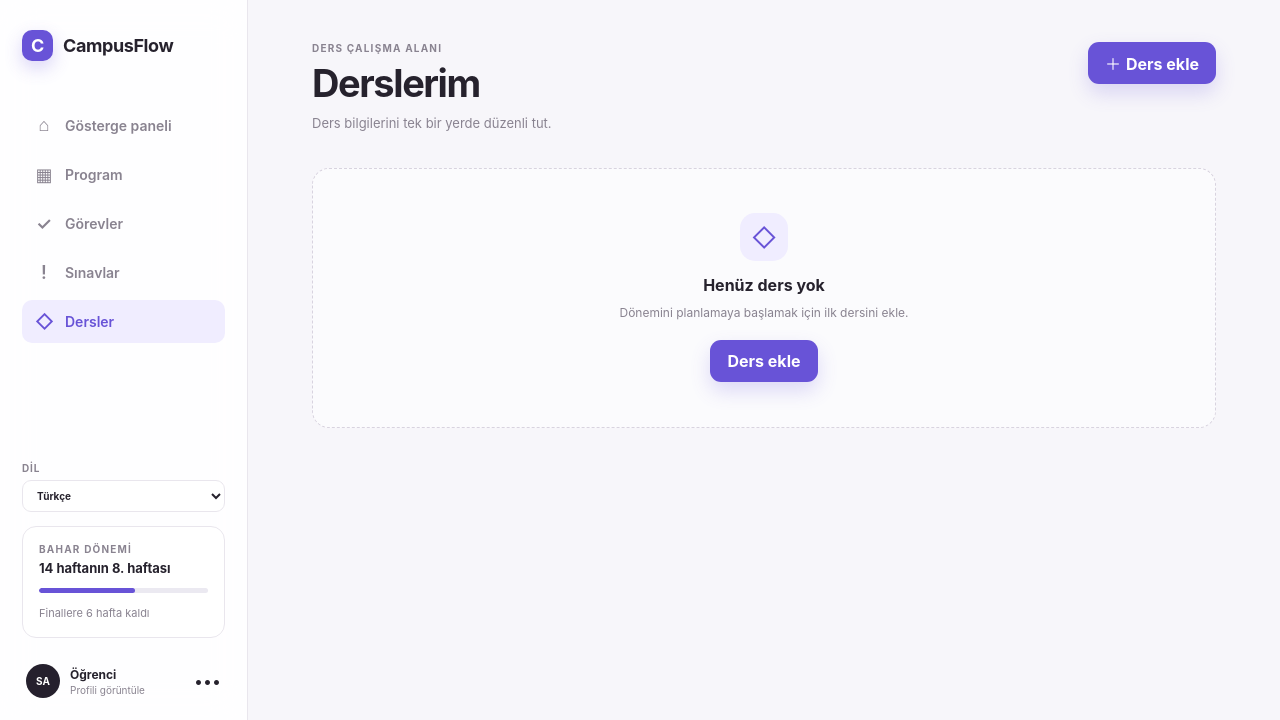
it: CampusFlow web application › creates a course from the empty state
expect the text "Henüz ders yok" is shown: met, box [703,275,825,295]
Click the button "Ders ekle" at (764, 361), box [710,340,818,382]
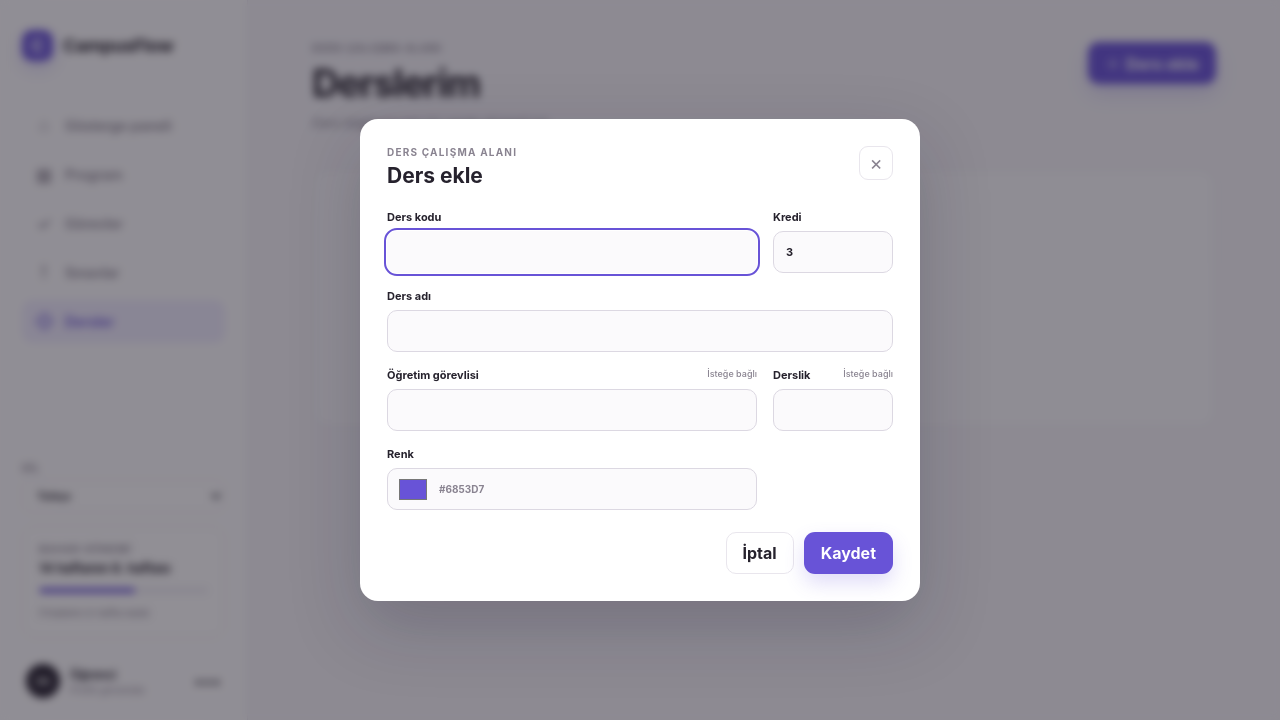
Type "math 204" into the field labelled "Ders kodu" at (572, 252), box [387,231,757,273]
Type "Linear Algebra" into the field labelled "Ders adı" at (640, 331), box [387,310,893,352]
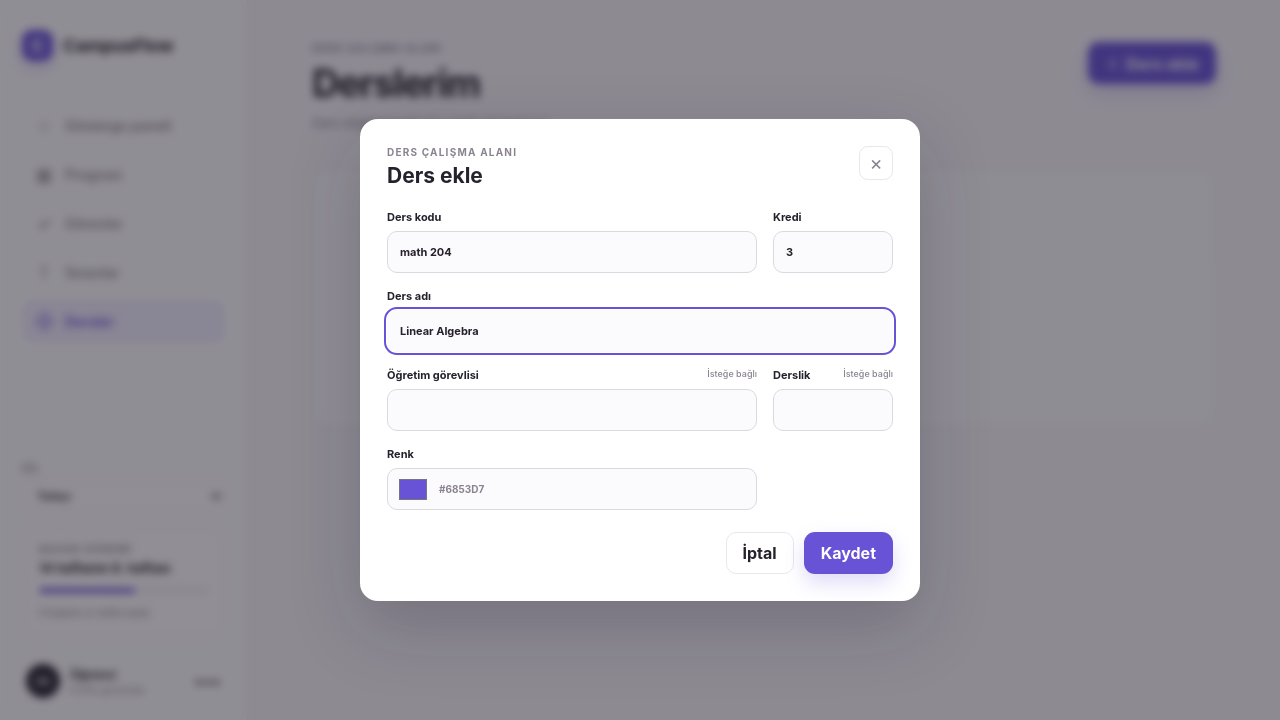
Type "Emmy Noether" into the field labelled "Öğretim görevlisi İsteğe bağlı" at (572, 410), box [387,389,757,431]
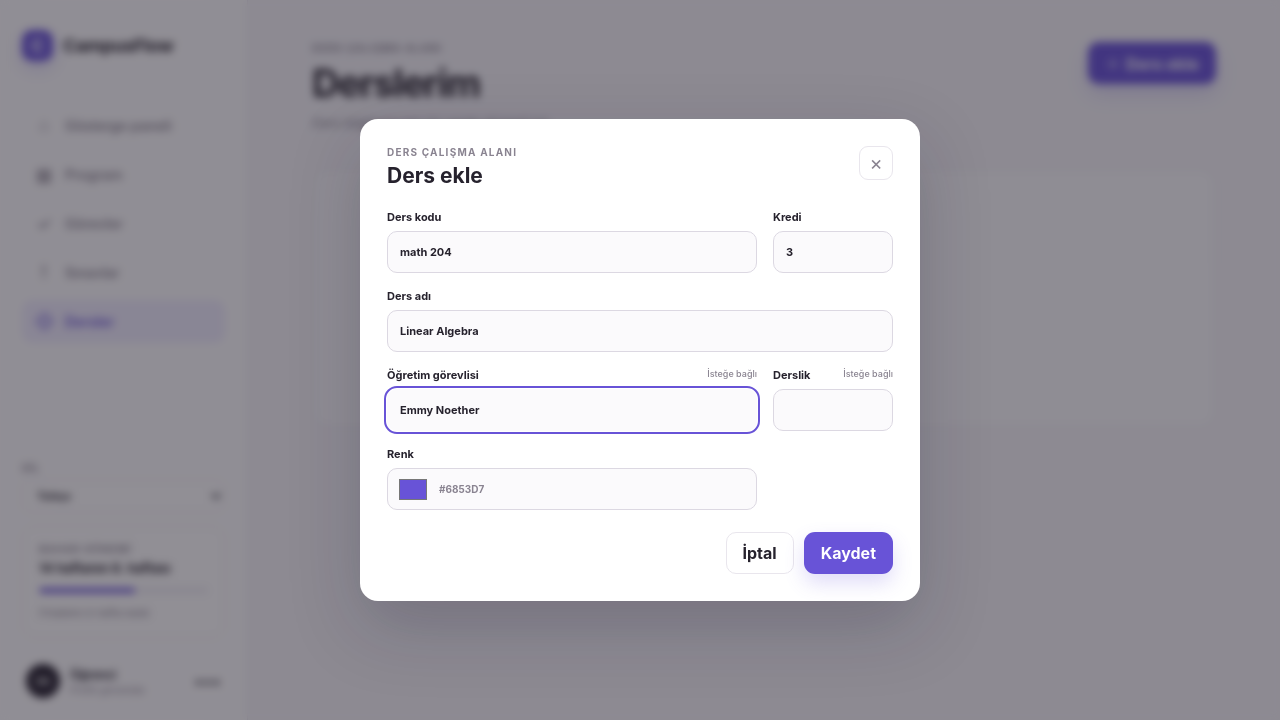
Type "A-112" into the field labelled "Derslik İsteğe bağlı" at (833, 410), box [773,389,893,431]
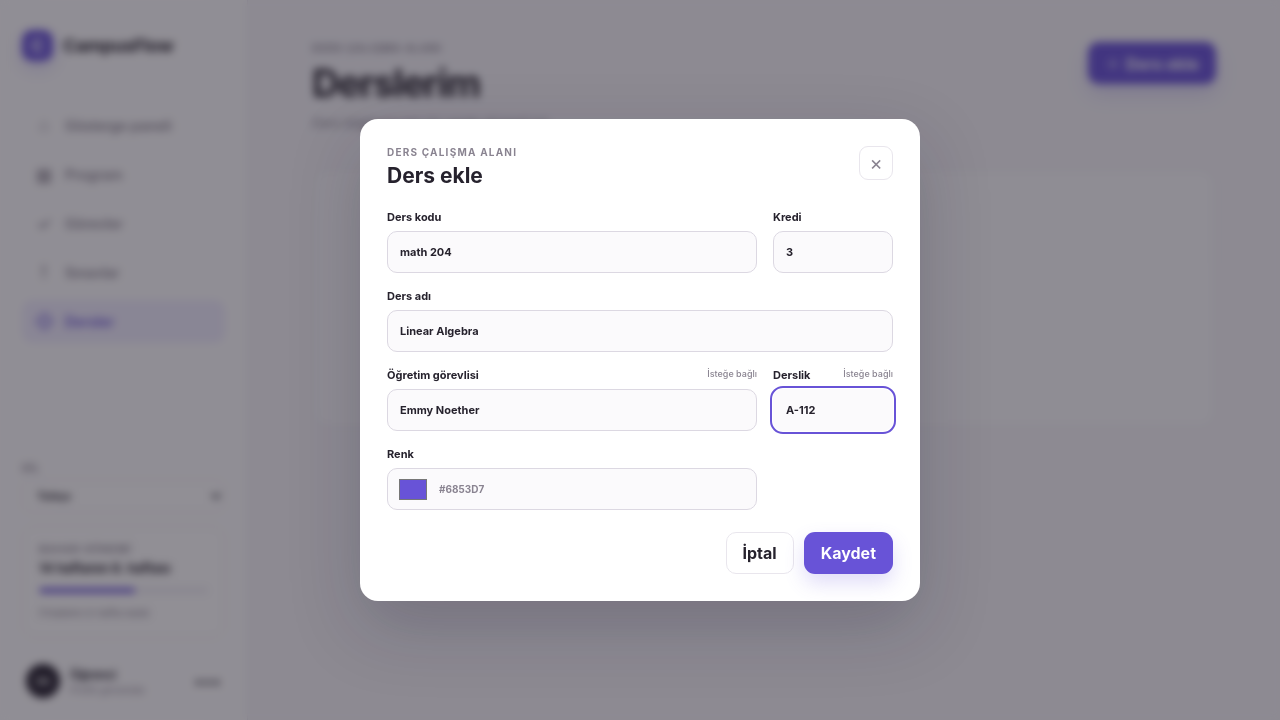
Replace the text in the number field labelled "Kredi" with "5" at (833, 252), box [773,231,893,273]
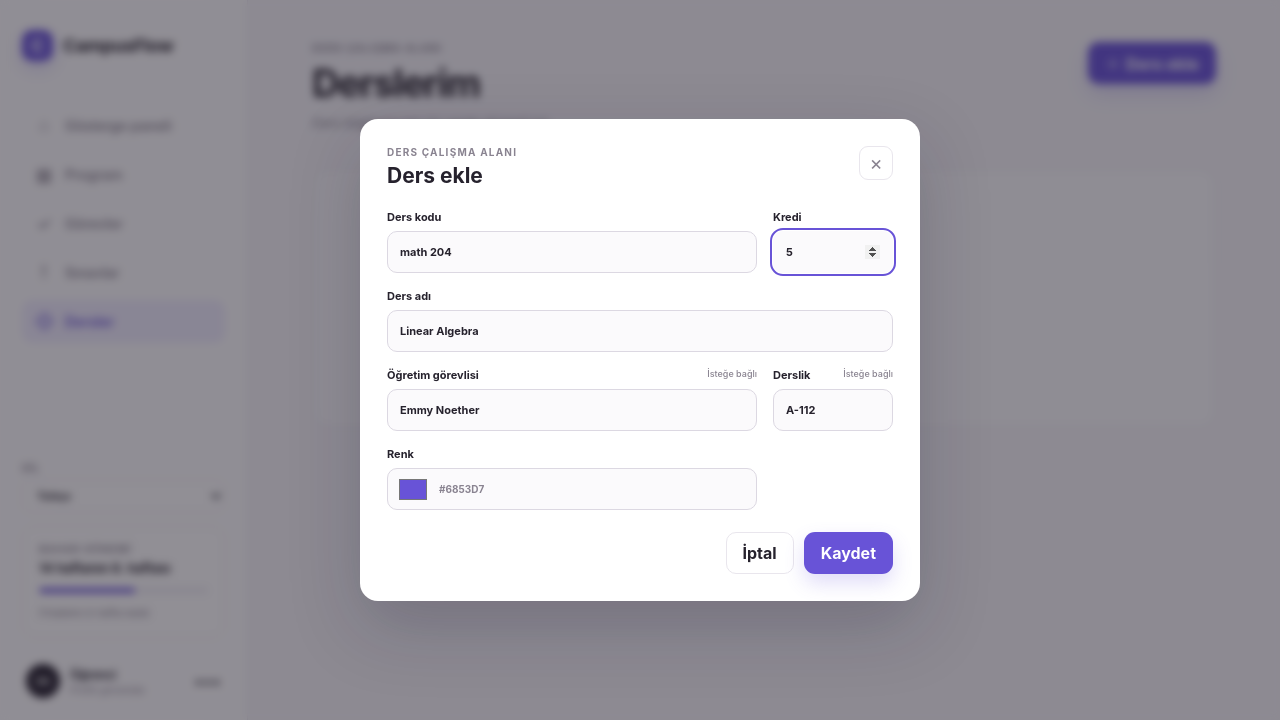
Click the button "Kaydet" at (848, 553), box [804,532,893,574]
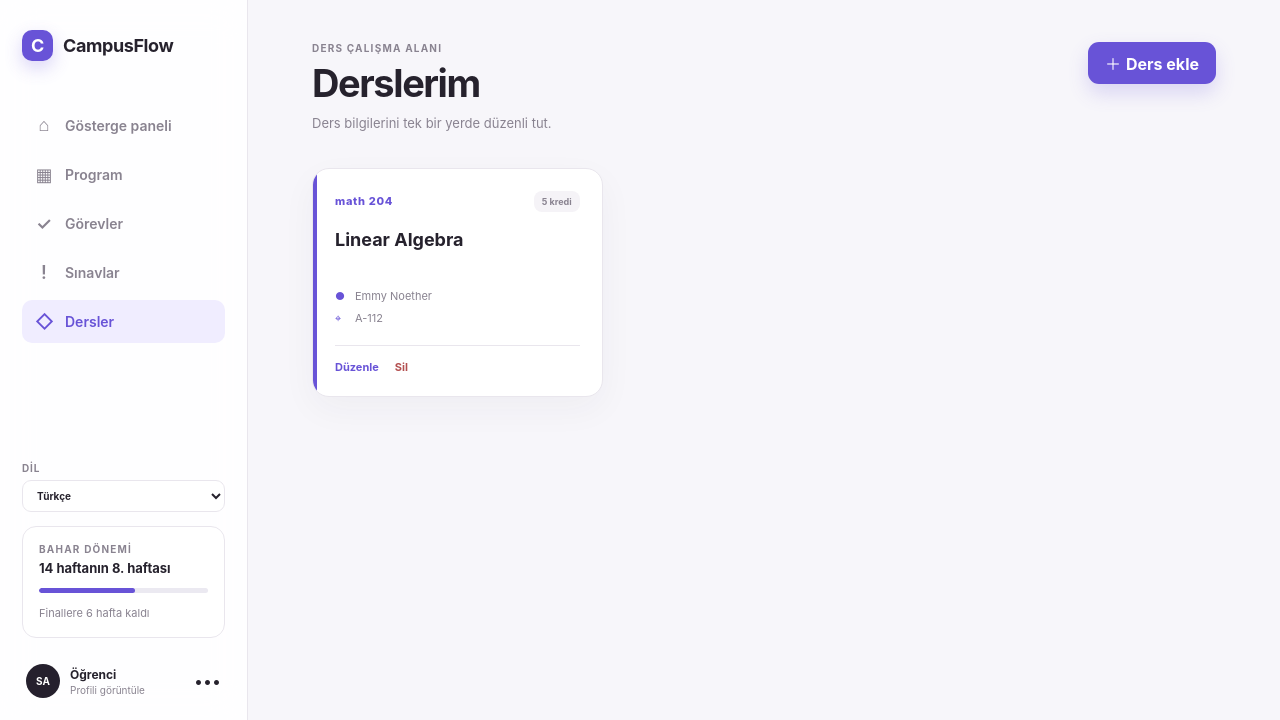
expect the heading "Linear Algebra" is shown: met, box [335,228,464,250]
expect the text "5 kredi" is shown: met, box [534,190,580,212]
